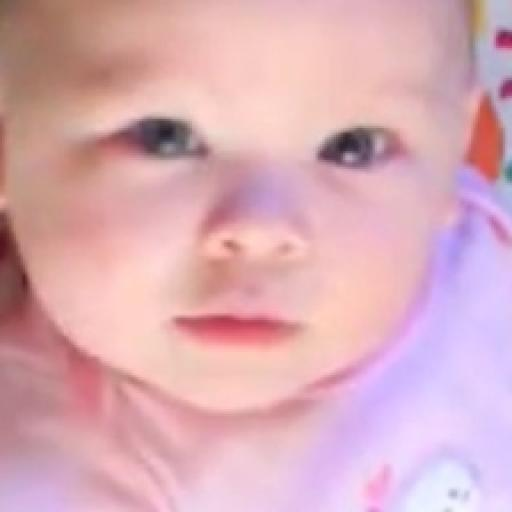Autism: (0, 3, 501, 443)
